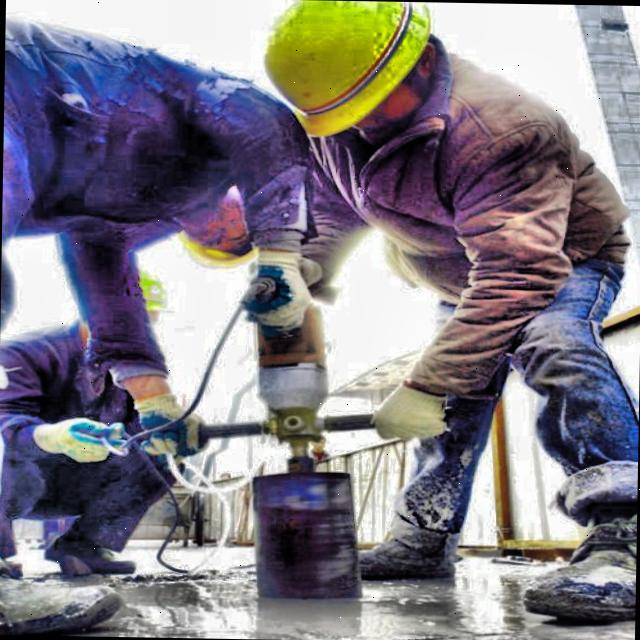helmet: (227, 0, 464, 149), (172, 192, 280, 276)
